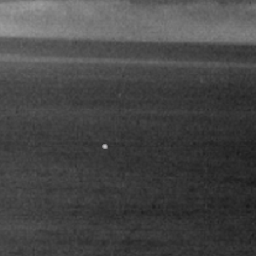Target: (101, 143, 109, 150)
